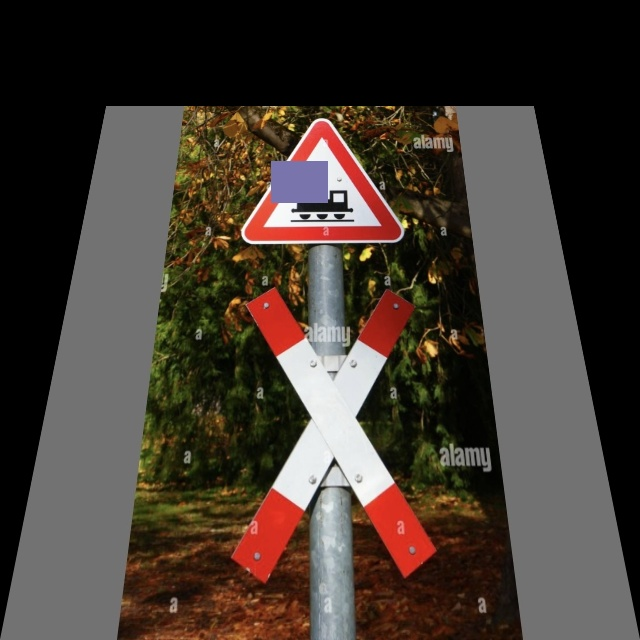Unguarded_Level_Crossing: (254, 132, 404, 244)
